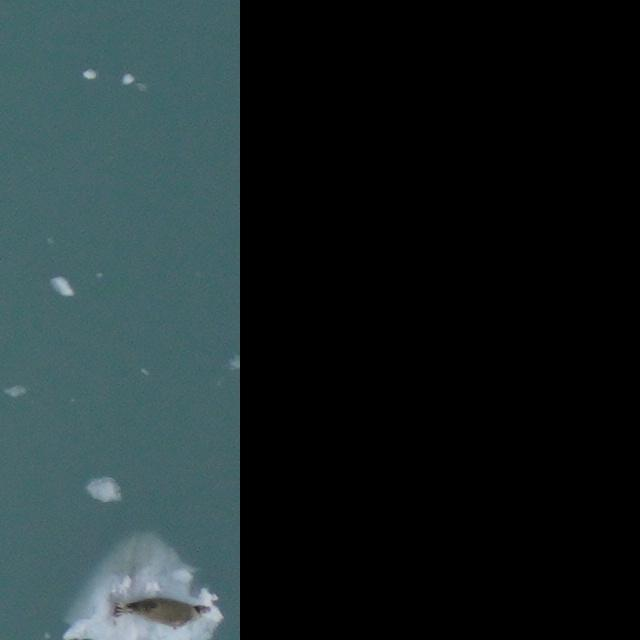seal: (109, 594, 216, 633)
